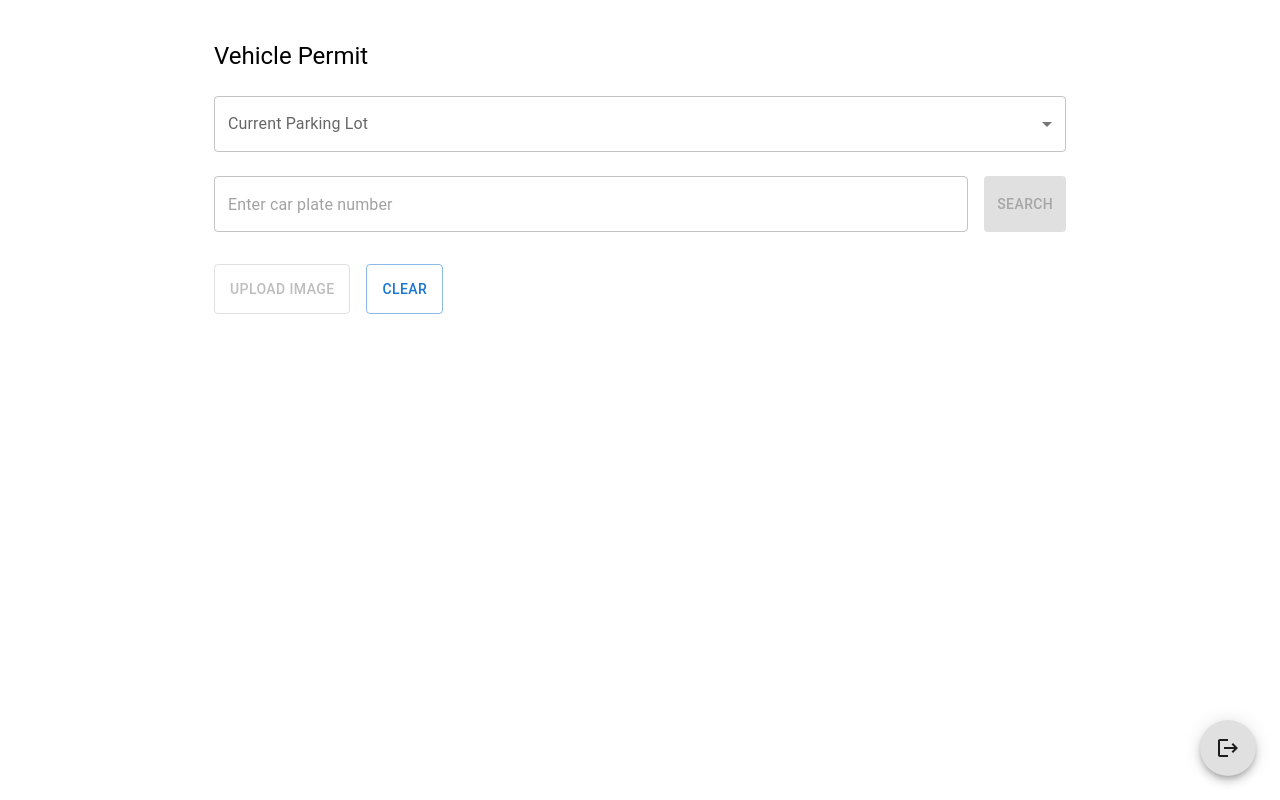
it: should show a valid permit message when there is a valid permit belong to the specific vehicle
Click the dropdown named "Current Parking Lot": (640, 124) x1=214 y1=96 x2=1066 y2=152
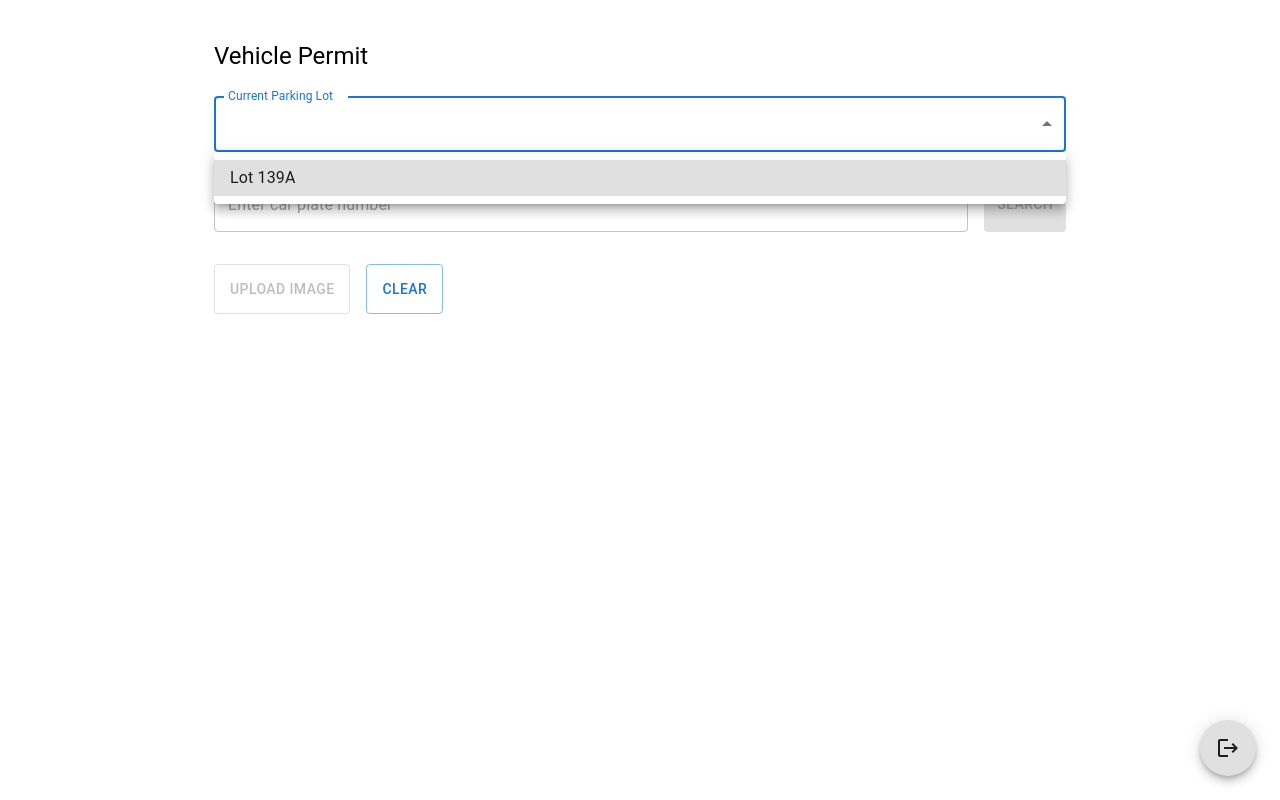
Click the option "Lot 139A": (263, 178) x1=214 y1=160 x2=1066 y2=196
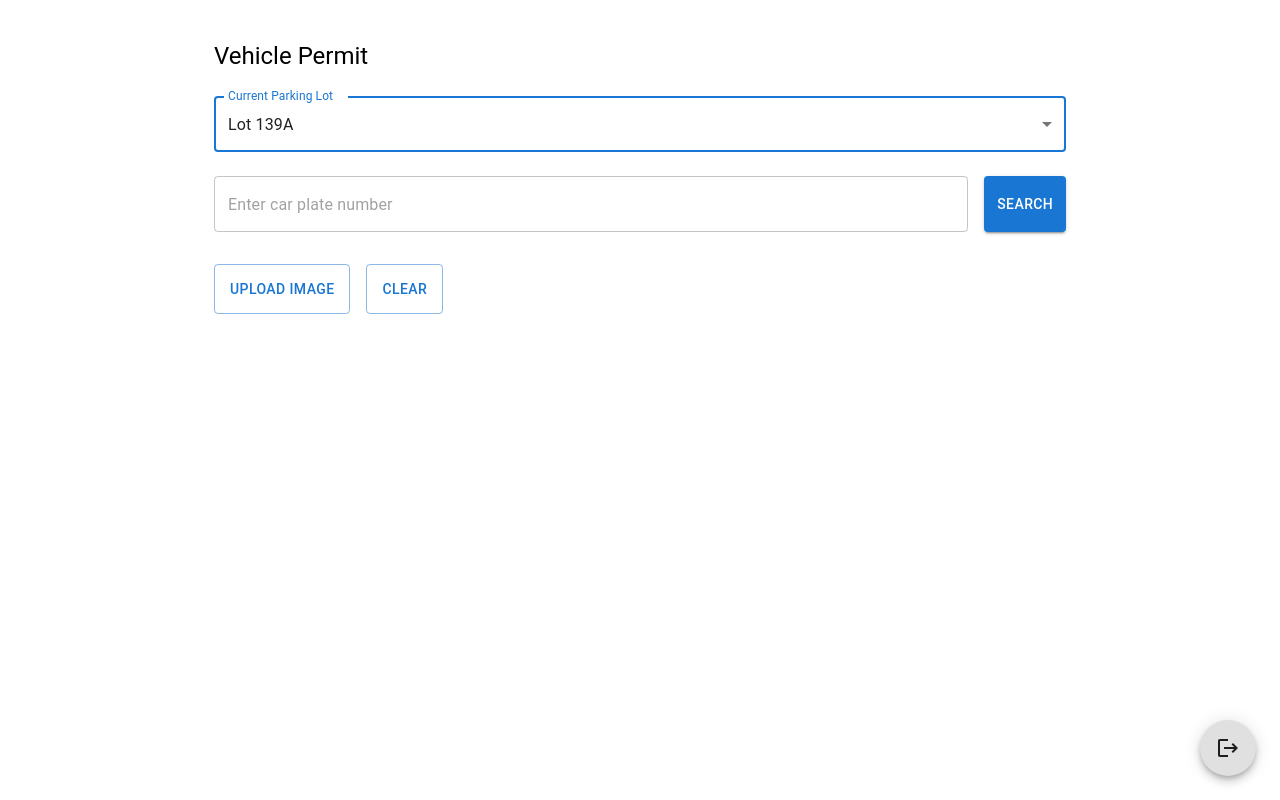
In the field with placeholder "Enter car plate number": (591, 204) x1=214 y1=176 x2=968 y2=232, type "123ABC"
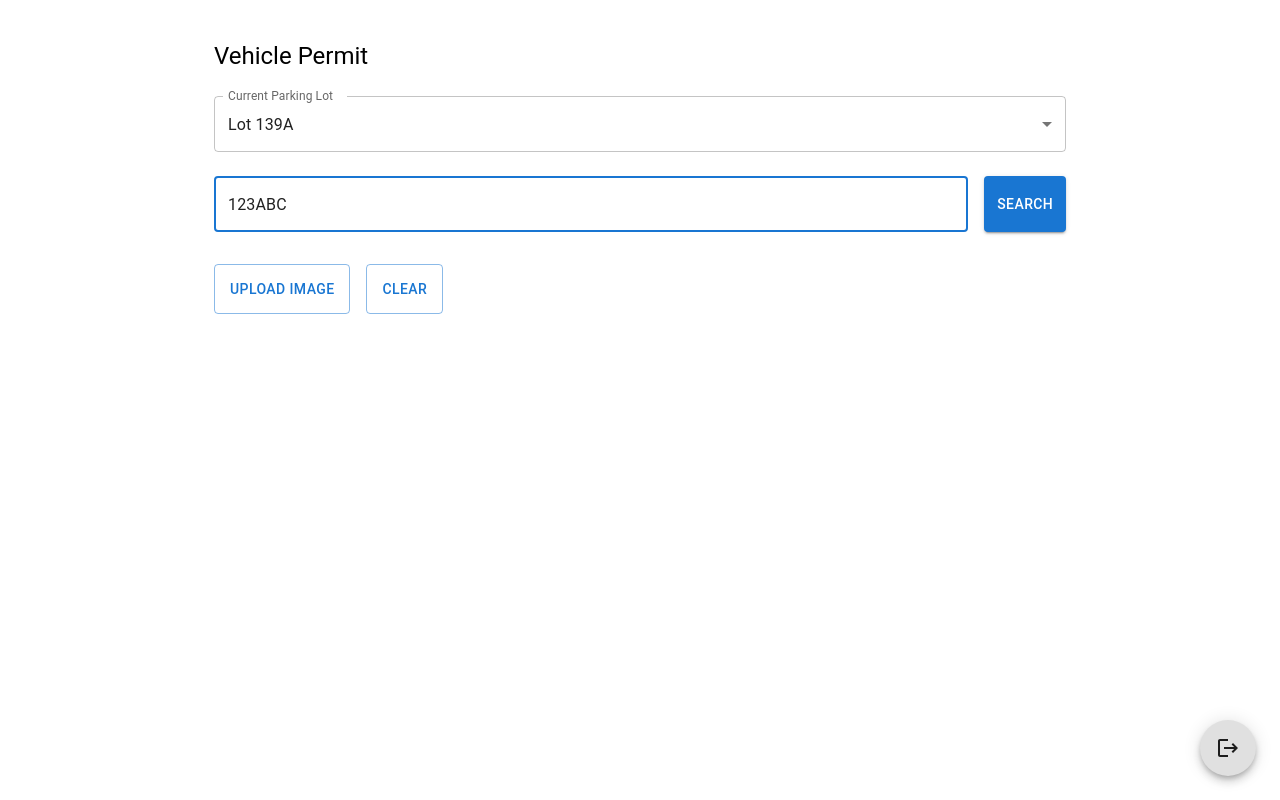
Click the button "Search": (1025, 204) x1=984 y1=176 x2=1066 y2=232
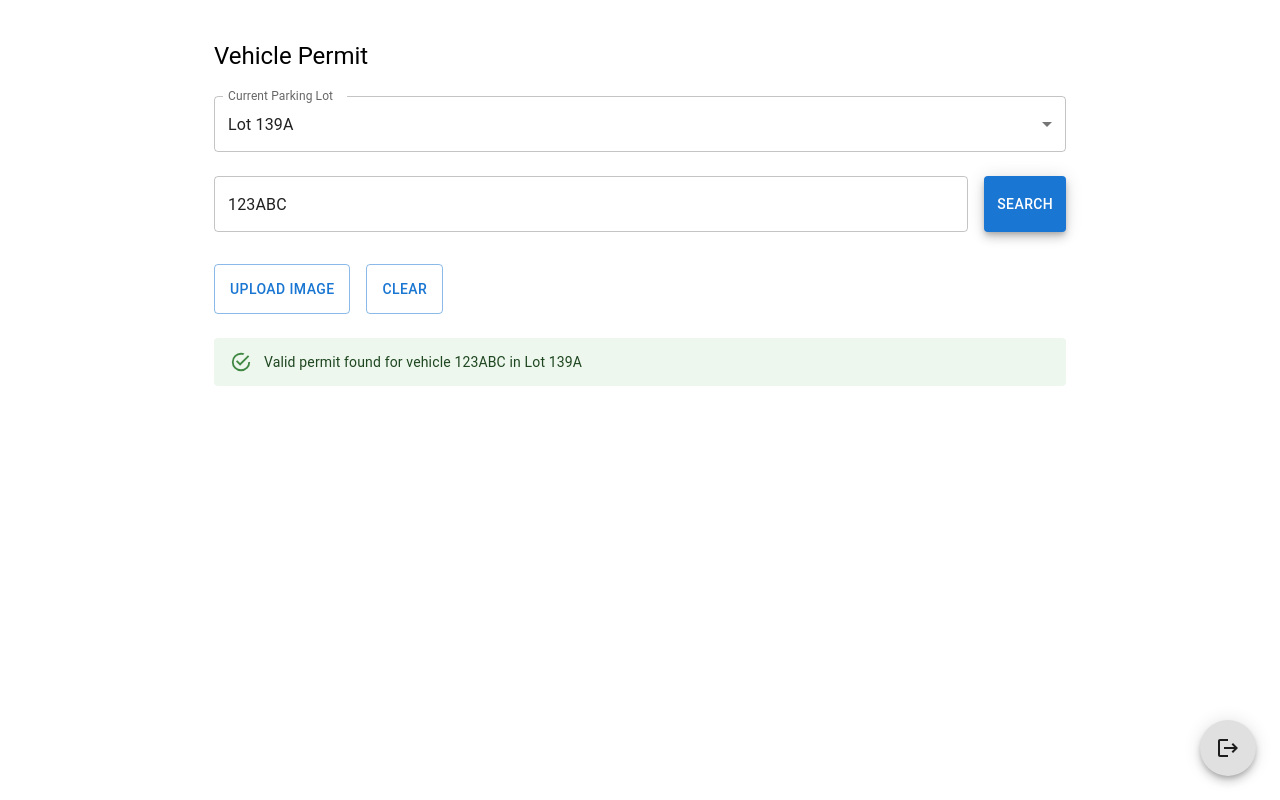
Result: the text "Valid permit found for vehicle 123ABC in Lot 139A" is shown at x1=264 y1=354 x2=582 y2=370
